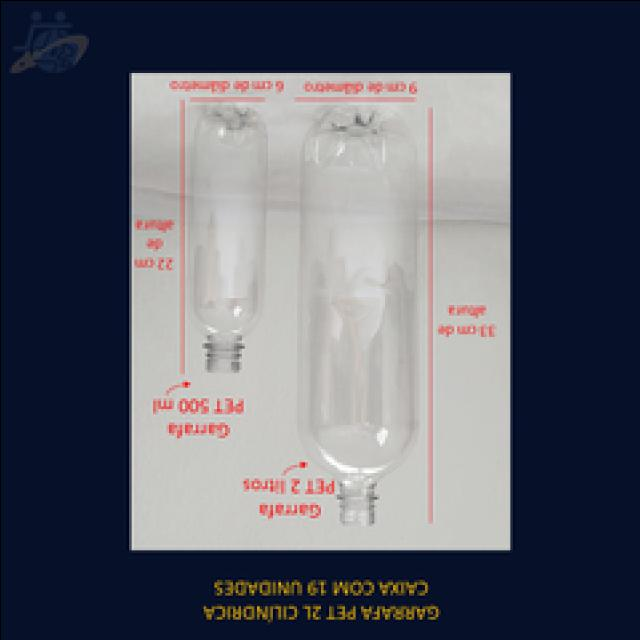bottle: (298, 107, 415, 525), (192, 108, 266, 371)
